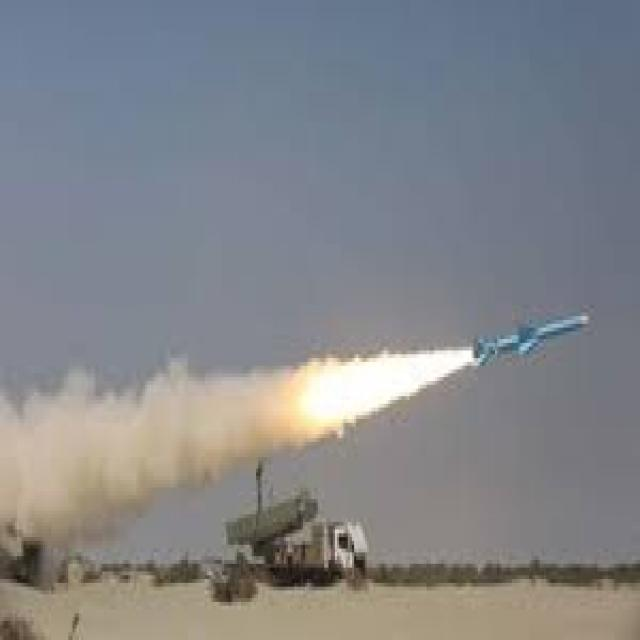Missile: (459, 309, 604, 369)
